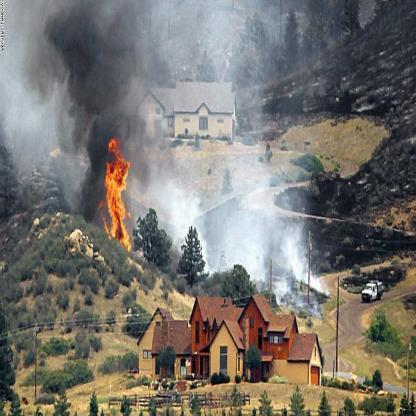Fire: (85, 146, 149, 267)
Smoke: (4, 0, 354, 297)
